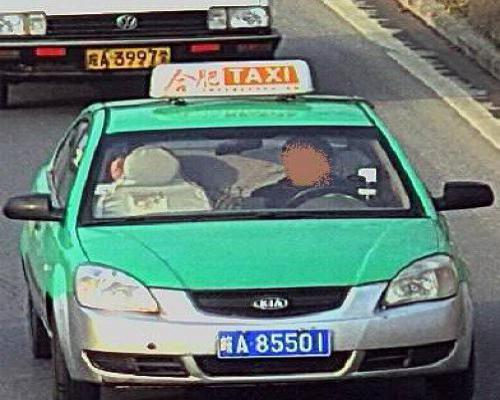Carplate: (213, 322, 335, 360)
